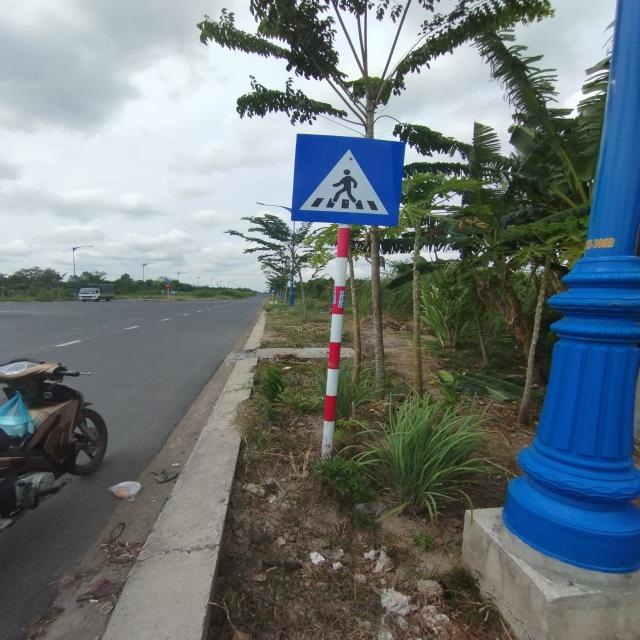Giao_Nhau_Duong_Uu_Tien: (292, 134, 407, 228)
